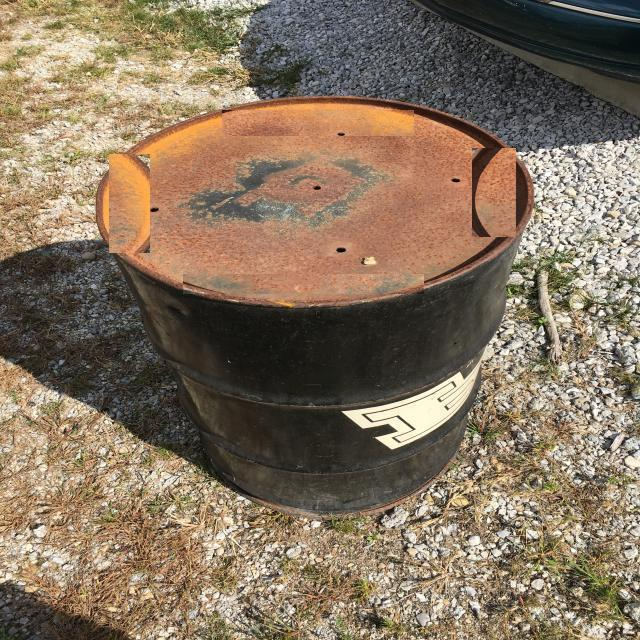Corrosion: (104, 95, 528, 306)
